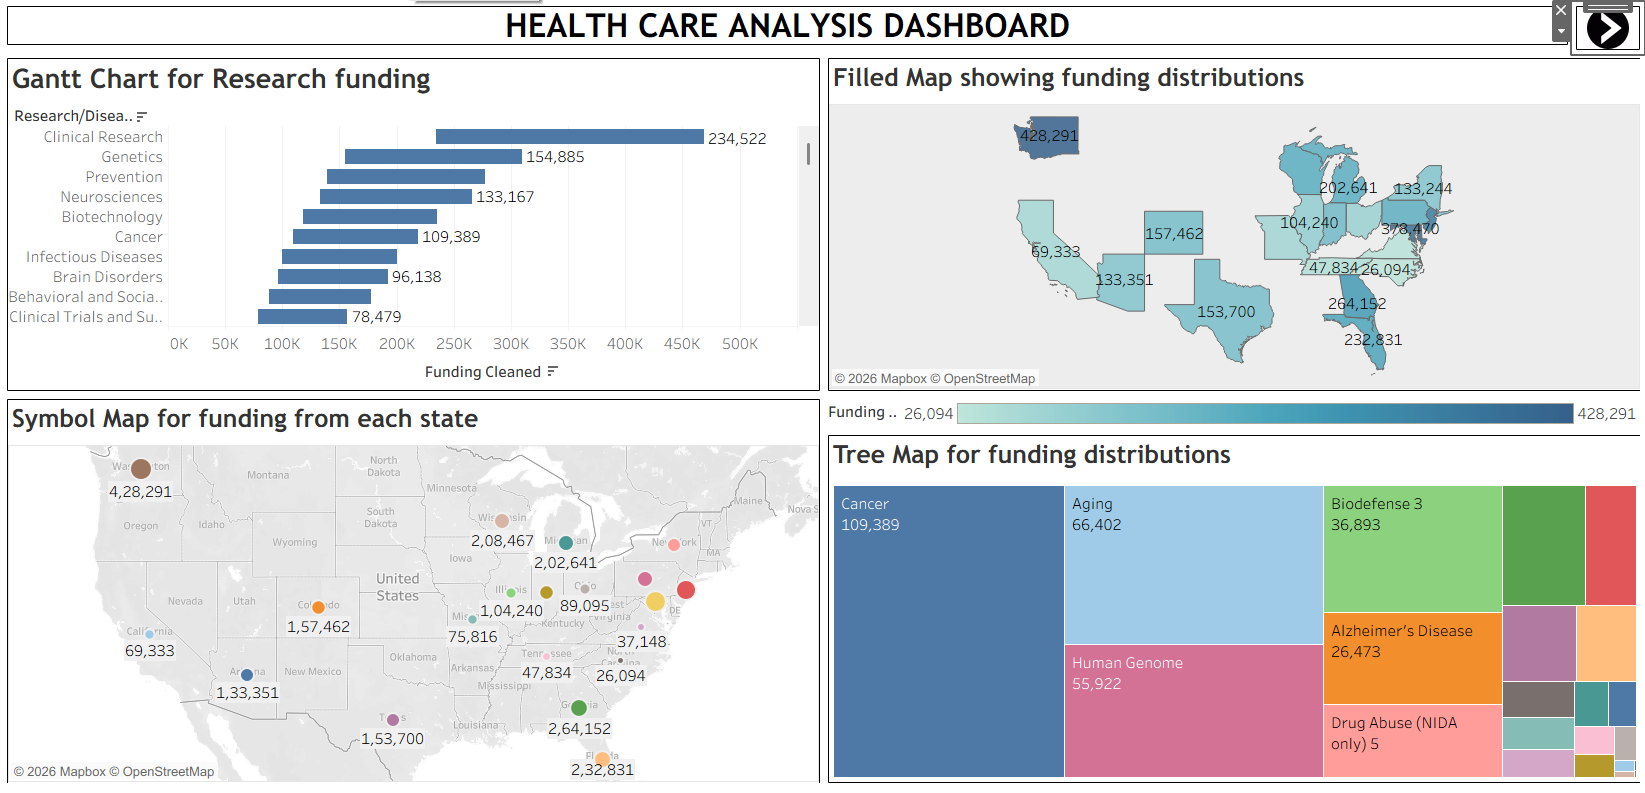

The page's visual inventory and layout, read from the dashboard file:
{"tool":"tableau","page":{"name":"Dashboard 3","canvas":[1000,1000],"units":"permille","ordinal":2},"visuals":[{"type":"text","box":[4.8,10,946.9,58.7]},{"type":"dashboard-object","box":[951.7,10,43.5,64.9]},{"type":"worksheet","title":"Gantt Chart","mark":"GanttBar","rows":["Research/Disease Areas"],"cols":["Calculation_335518175856336896"],"box":[4.8,74.9,495.2,425.1]},{"type":"worksheet","title":"Filled Map","mark":"Automatic","box":[500,74.9,495.2,425.1]},{"type":"worksheet","title":"Symbol Map","mark":"Automatic","box":[4.8,500,495.2,490]},{"type":"legend","title":"Filled Map","param":"[federated.0bgmugz1a1cw1t11nrt9d1o7sp34].[sum:Calculation_335518175856336896:qk]","box":[500,500,495.2,46.2]},{"type":"worksheet","title":"Tree Map","mark":"Automatic","box":[500,546.2,495.2,443.8]}]}

Visuals, with their boxes on the dashboard's canvas, which has no fixed pixel size, in thousandths of its width and height (x1, y1, x2, y2). These are canvas units, not pixel positions in the 1645x793 screenshot, which may show the page scaled, cropped or inside an application window:
text: Rect(5, 10, 952, 69)
dashboard-object: Rect(952, 10, 995, 75)
"Gantt Chart" worksheet (GanttBar marks): Rect(5, 75, 500, 500)
"Filled Map" worksheet: Rect(500, 75, 995, 500)
"Symbol Map" worksheet: Rect(5, 500, 500, 990)
"Filled Map" legend: Rect(500, 500, 995, 546)
"Tree Map" worksheet: Rect(500, 546, 995, 990)
